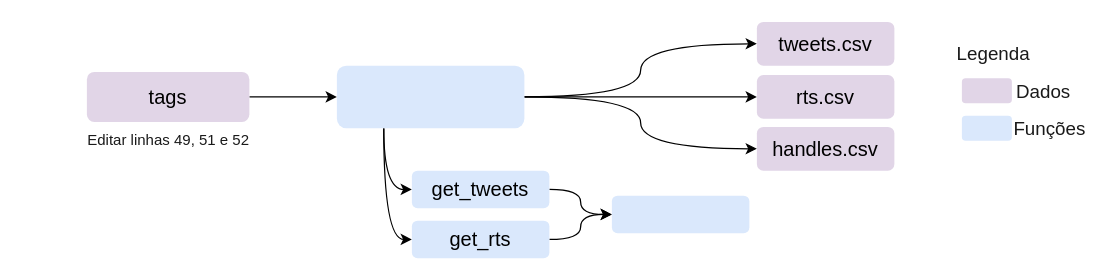
This 1115x279 diagram has some shape labels left out. Here are the shapes that lost their labels. From the top down, the box of each, then its label:
(336, 65, 524, 128): search_tweets
(611, 195, 749, 232): get_handles
